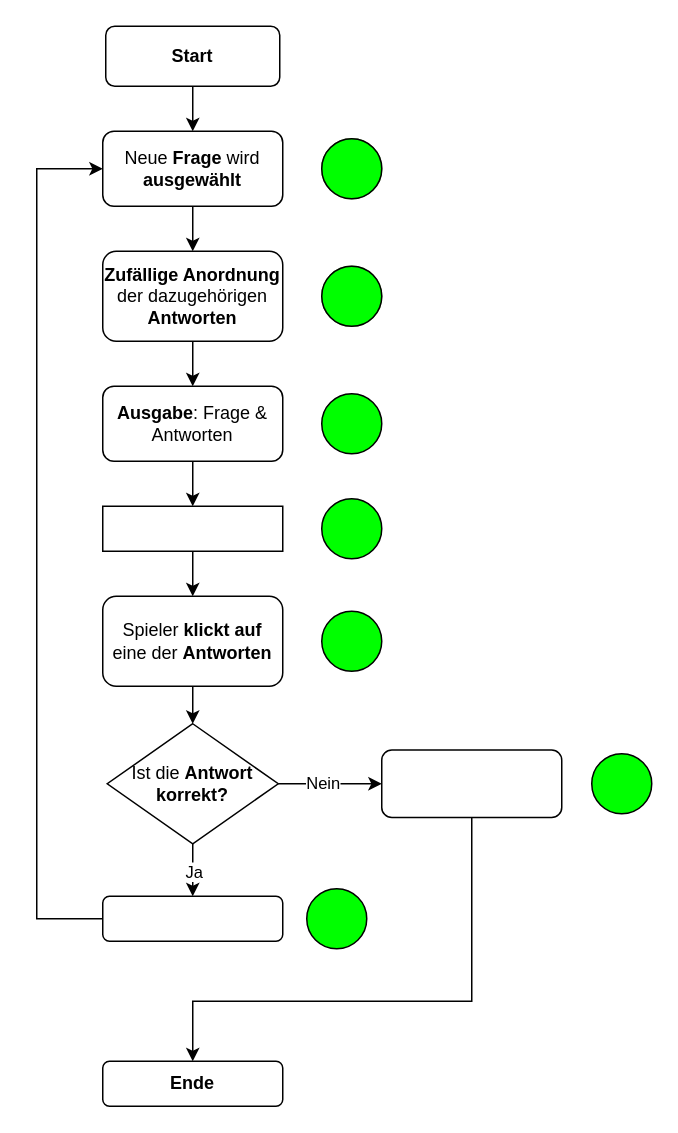
This 678x1133 diagram has some shape labels left out. The shapes that lost their labels are listed below. From the top down, each one's centre as x and y in pixels, then its label:
the point at 192,528: Start der Runde
the point at 471,783: Ergebnis wird angezeigt
the point at 192,918: Nächste Frage
